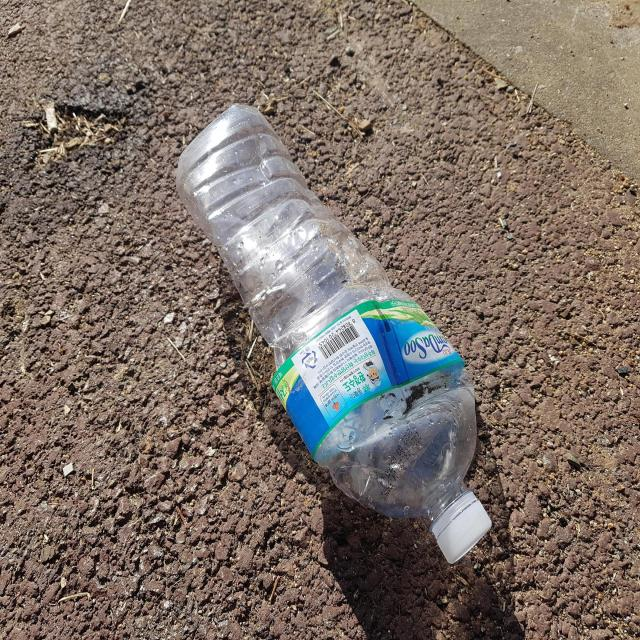plastic: (176, 103, 492, 564)
